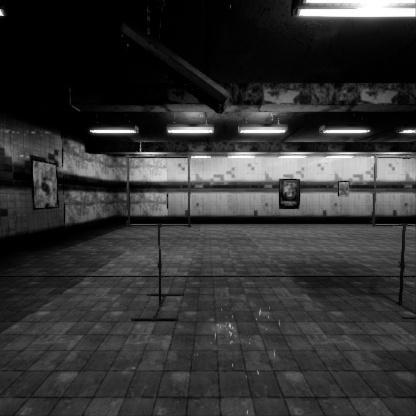gate: (126, 188, 196, 260), (372, 188, 416, 260)
